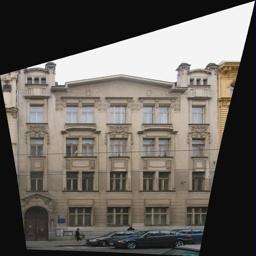building: (19, 54, 218, 230)
